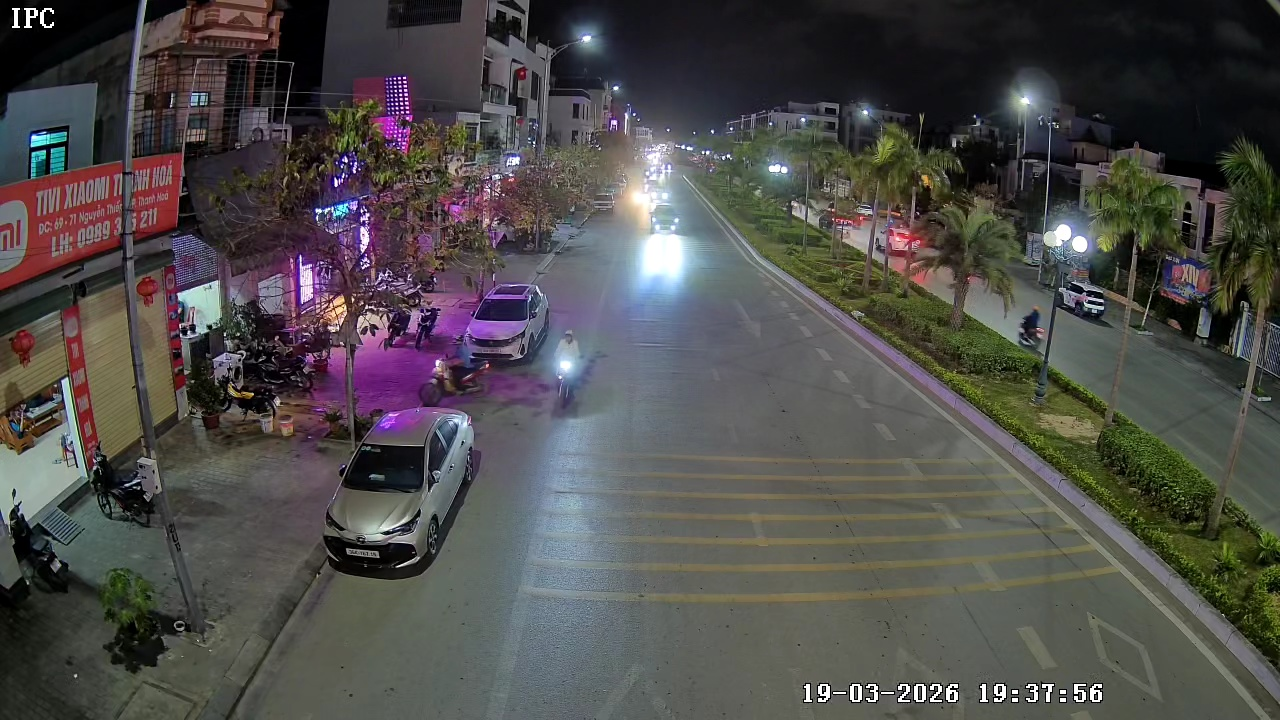car: (323, 403, 481, 576), (468, 281, 552, 362), (649, 204, 682, 234)
motorbike: (418, 331, 491, 402), (548, 328, 590, 410)
